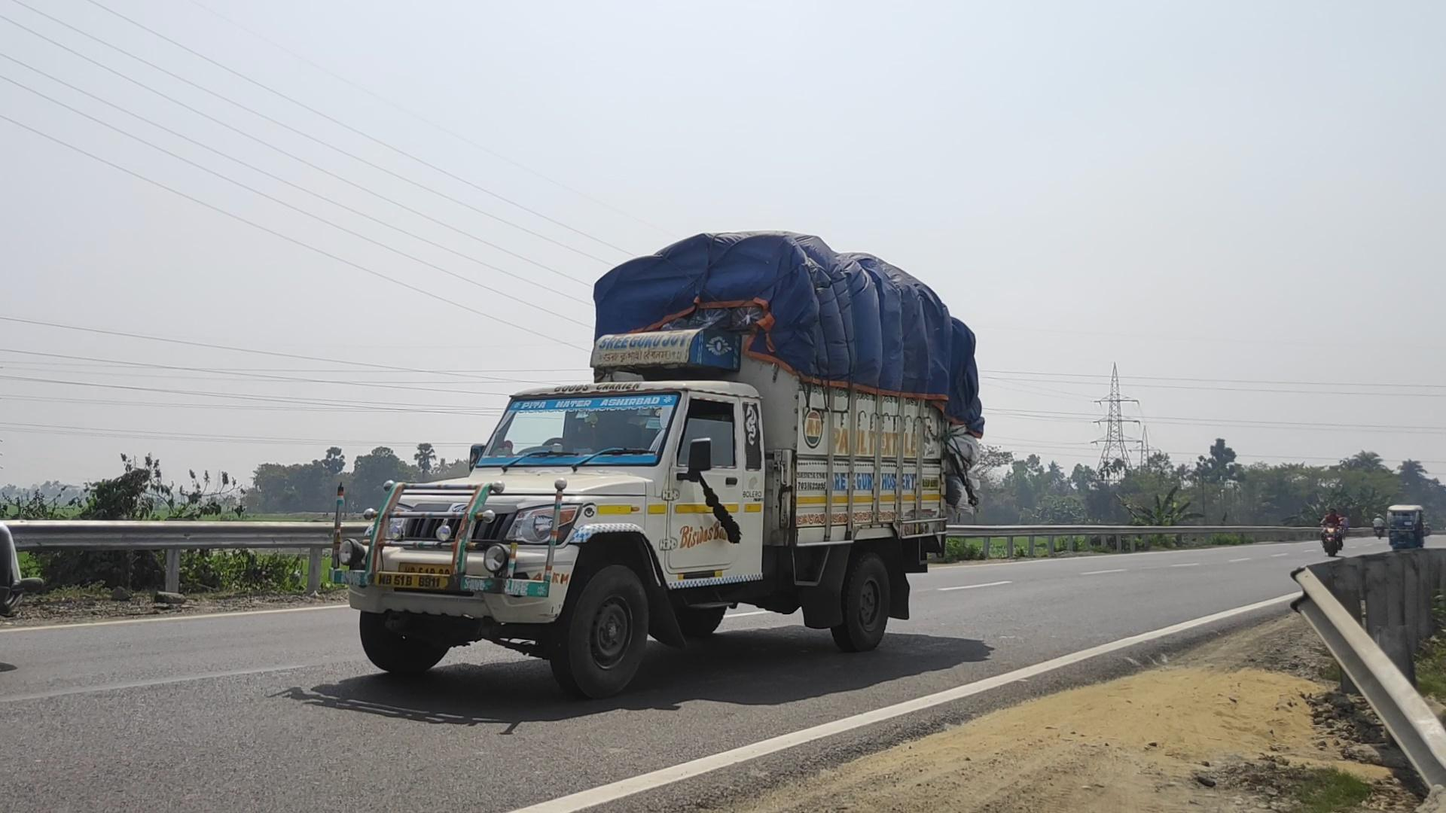Auto: (1385, 504, 1426, 555)
bike: (1318, 507, 1347, 558)
van: (330, 232, 981, 702)
